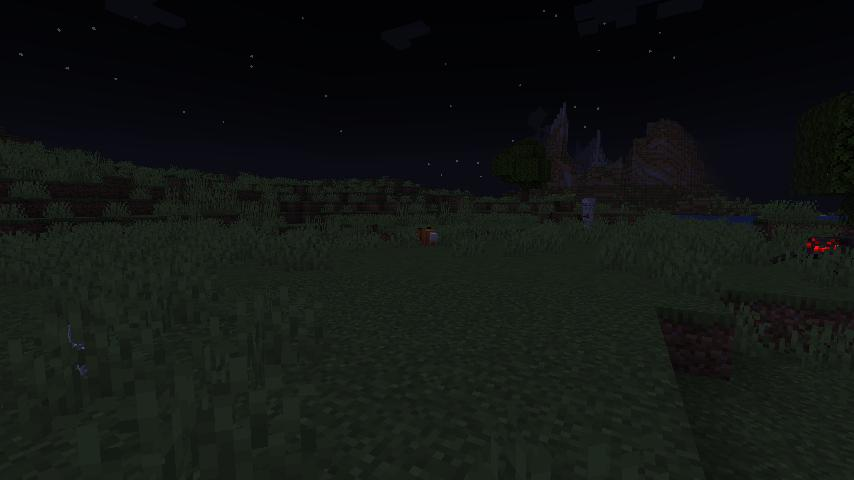fox: (416, 225, 441, 250)
skeleton: (575, 194, 600, 233)
spider: (768, 233, 854, 277)
